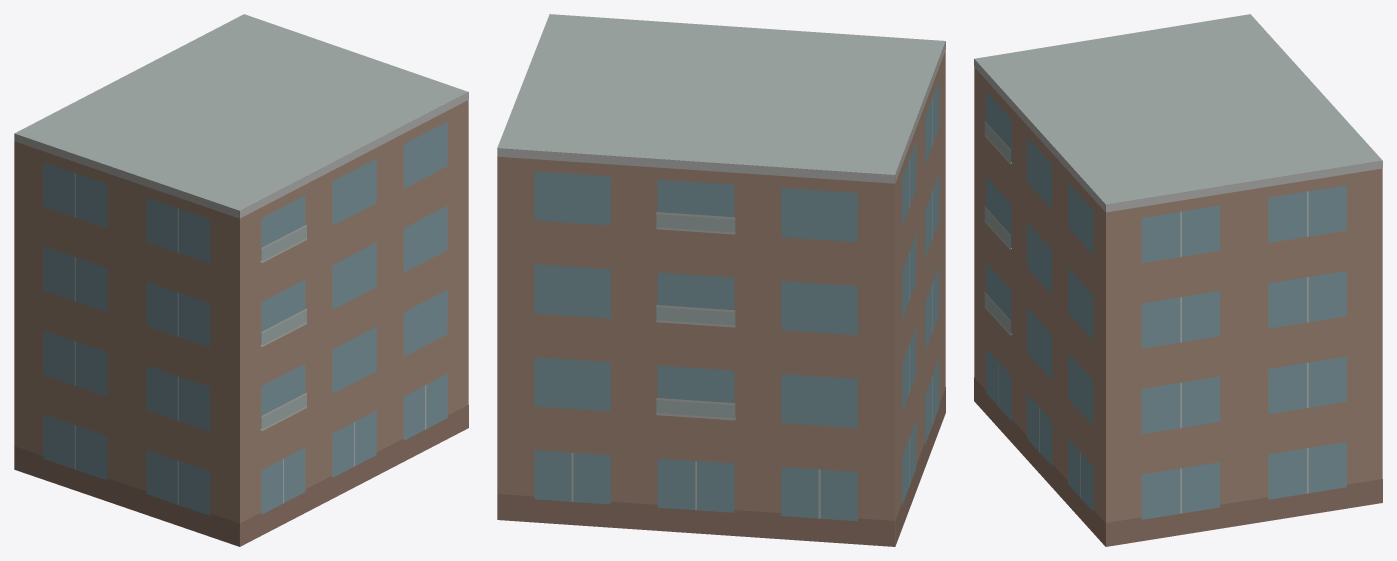
File: survey-upis-32836428.glb
3 views of the same model, side by side, from view 1: azimuth 30°, elevation 25°; view 2: azimuth 150°, elevation 25°; view 3: azimuth 270°, elevation 25° (orthographic). The views are drawn at different scales.
Visible parts, largest first — view 1: survey-upis-32836428.tmp; view 2: survey-upis-32836428.tmp; view 3: survey-upis-32836428.tmp.
Boxes of the visible parts, x1,y1,x2,y2 form: survey-upis-32836428.tmp: (14, 14, 468, 546); survey-upis-32836428.tmp: (497, 14, 945, 546); survey-upis-32836428.tmp: (974, 14, 1382, 546).
Size of the model in its own units: 12.54 by 10.5 by 11.37.
